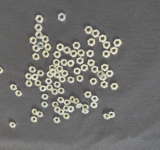nut: (110, 46, 119, 55), (58, 12, 66, 22), (113, 39, 123, 47), (35, 15, 44, 23), (92, 29, 100, 38), (99, 34, 107, 43), (103, 41, 112, 49), (35, 31, 43, 39), (85, 26, 93, 34), (103, 50, 111, 58), (88, 38, 96, 46), (73, 42, 81, 50), (37, 42, 45, 50), (44, 43, 52, 51), (32, 53, 40, 61), (63, 46, 71, 54), (70, 50, 78, 58), (87, 50, 95, 58), (88, 59, 96, 67), (101, 64, 109, 72), (81, 64, 89, 72), (101, 81, 109, 89), (33, 44, 40, 53), (35, 24, 43, 31), (42, 35, 49, 43), (57, 43, 64, 51), (43, 50, 50, 58), (54, 51, 62, 58), (78, 49, 85, 57), (67, 60, 75, 67), (77, 57, 84, 65), (92, 66, 99, 74), (97, 71, 105, 78), (37, 70, 45, 77), (68, 76, 75, 84), (10, 84, 18, 91), (15, 90, 23, 97), (111, 83, 119, 90), (90, 78, 98, 85), (25, 80, 33, 87), (45, 78, 53, 85), (30, 37, 37, 44), (29, 66, 36, 73), (53, 59, 60, 66), (61, 59, 68, 66), (100, 74, 107, 81), (49, 65, 56, 72), (57, 66, 64, 73), (74, 68, 81, 75), (62, 70, 69, 77), (50, 68, 57, 75), (47, 71, 54, 78), (54, 72, 61, 79), (59, 76, 66, 83), (77, 75, 84, 82), (25, 73, 32, 80), (32, 74, 39, 81), (35, 80, 42, 87), (40, 85, 47, 92), (58, 88, 65, 95), (32, 109, 39, 116), (85, 92, 92, 99), (91, 102, 98, 109), (104, 113, 111, 120), (58, 97, 65, 104), (73, 98, 80, 105), (54, 117, 61, 124), (68, 106, 75, 113), (63, 113, 70, 120), (106, 71, 114, 77), (51, 89, 59, 95), (41, 102, 49, 108), (91, 96, 99, 102), (54, 107, 62, 113), (54, 82, 61, 88), (46, 85, 53, 91), (42, 94, 49, 100), (31, 117, 38, 123), (109, 112, 116, 118), (52, 102, 59, 108), (70, 97, 77, 103), (64, 100, 71, 106), (76, 103, 83, 109), (82, 104, 89, 110), (58, 109, 65, 115), (37, 112, 43, 118), (63, 106, 69, 112), (82, 109, 89, 114), (10, 123, 16, 128), (0, 67, 4, 74)
